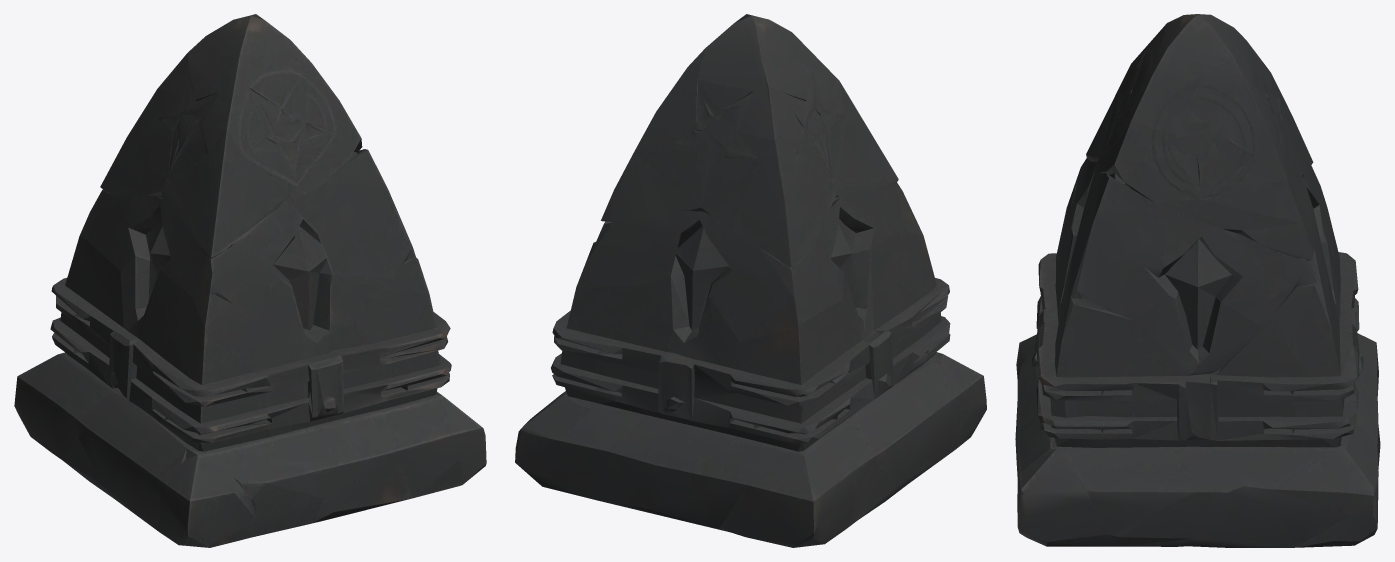
Rendered from echo_relic.glb.
The picture shows the model from 3 angles, left to right: view 1: azimuth 30°, elevation 25°; view 2: azimuth 150°, elevation 25°; view 3: azimuth 270°, elevation 25°; orthographic projection. The views are drawn at different scales.
Size of the model in its own units: 1.14 by 1.6 by 1.15.
Materials: 1 (1 with a texture image).
